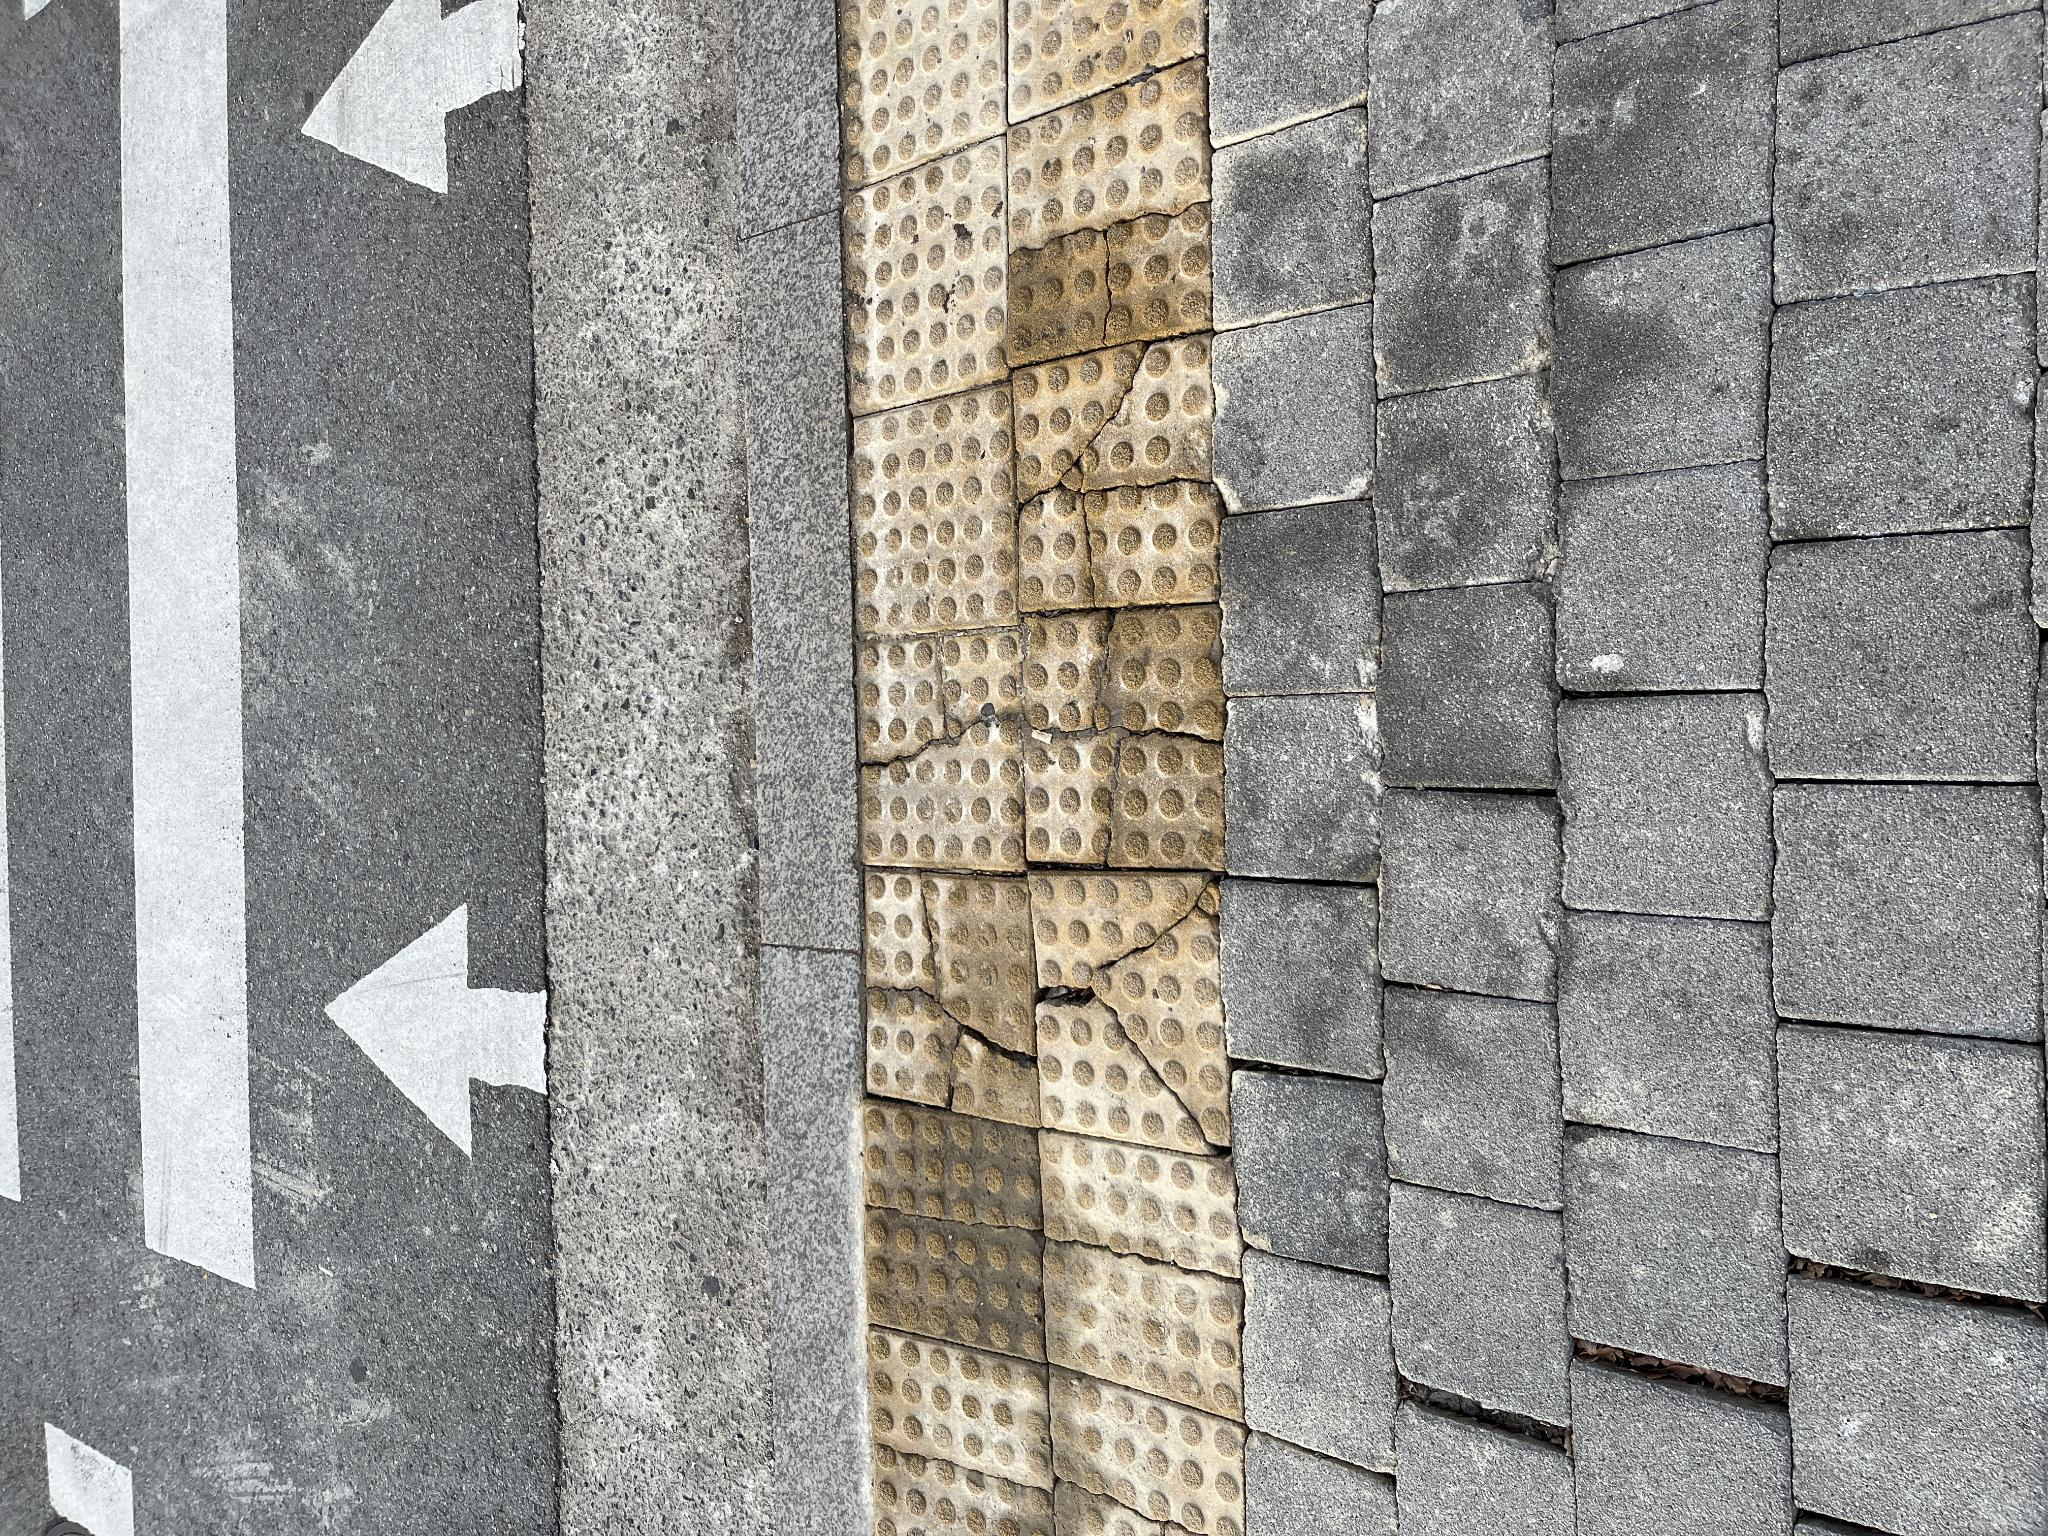Stop block broken: (1172, 1010, 1474, 1208), (114, 1039, 402, 1242), (382, 1028, 664, 1229), (926, 1012, 1203, 1217), (666, 1023, 930, 1226), (177, 868, 434, 1044), (411, 866, 666, 1039), (666, 857, 906, 1023)
Stop block normal: (1121, 845, 1398, 1004), (901, 854, 1153, 1016)
